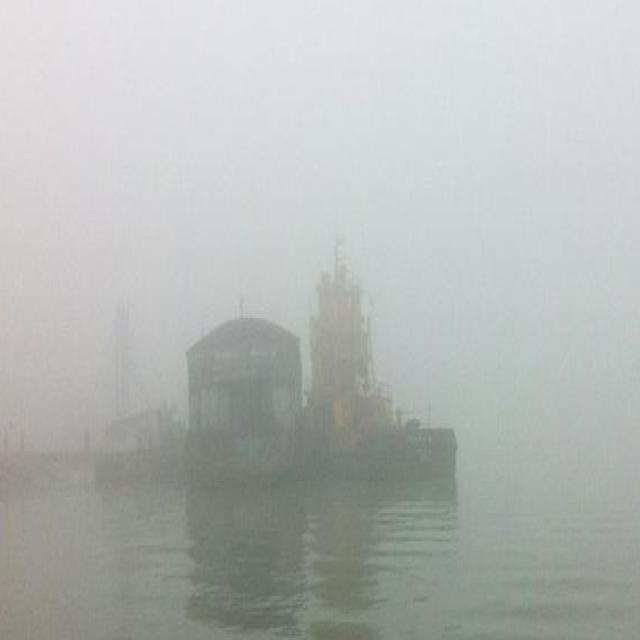fishing boat: (97, 249, 456, 494)
